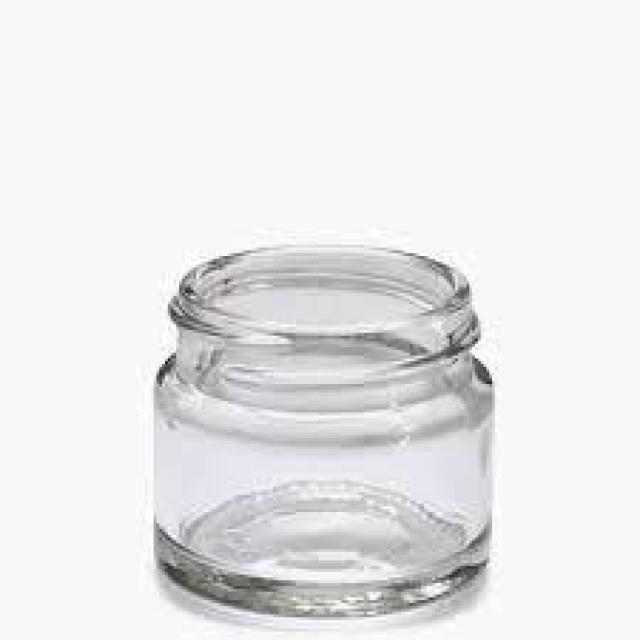Glass: (150, 241, 497, 635)
